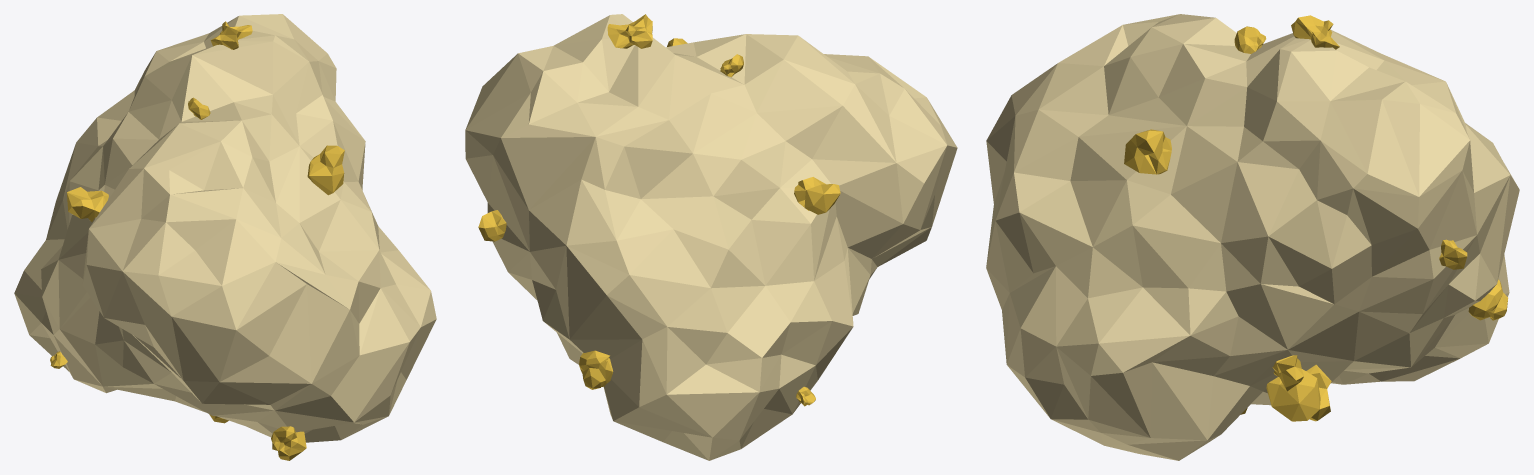
The model's file is MetalOre (34).fbx.
3 views of the same model, side by side, from view 1: azimuth 30°, elevation 25°; view 2: azimuth 150°, elevation 25°; view 3: azimuth 270°, elevation 25° (orthographic). The views are drawn at different scales.
Parts seen in each view (by area): view 1: Asteroid389; view 2: Asteroid389; view 3: Asteroid389.
Boxes of the visible parts, left/top/right/bottom form: Asteroid389: left=14, top=14, right=436, bottom=460; Asteroid389: left=465, top=14, right=957, bottom=460; Asteroid389: left=986, top=14, right=1519, bottom=460.
Bounding box in the file's own units: 415 × 439 × 501.
